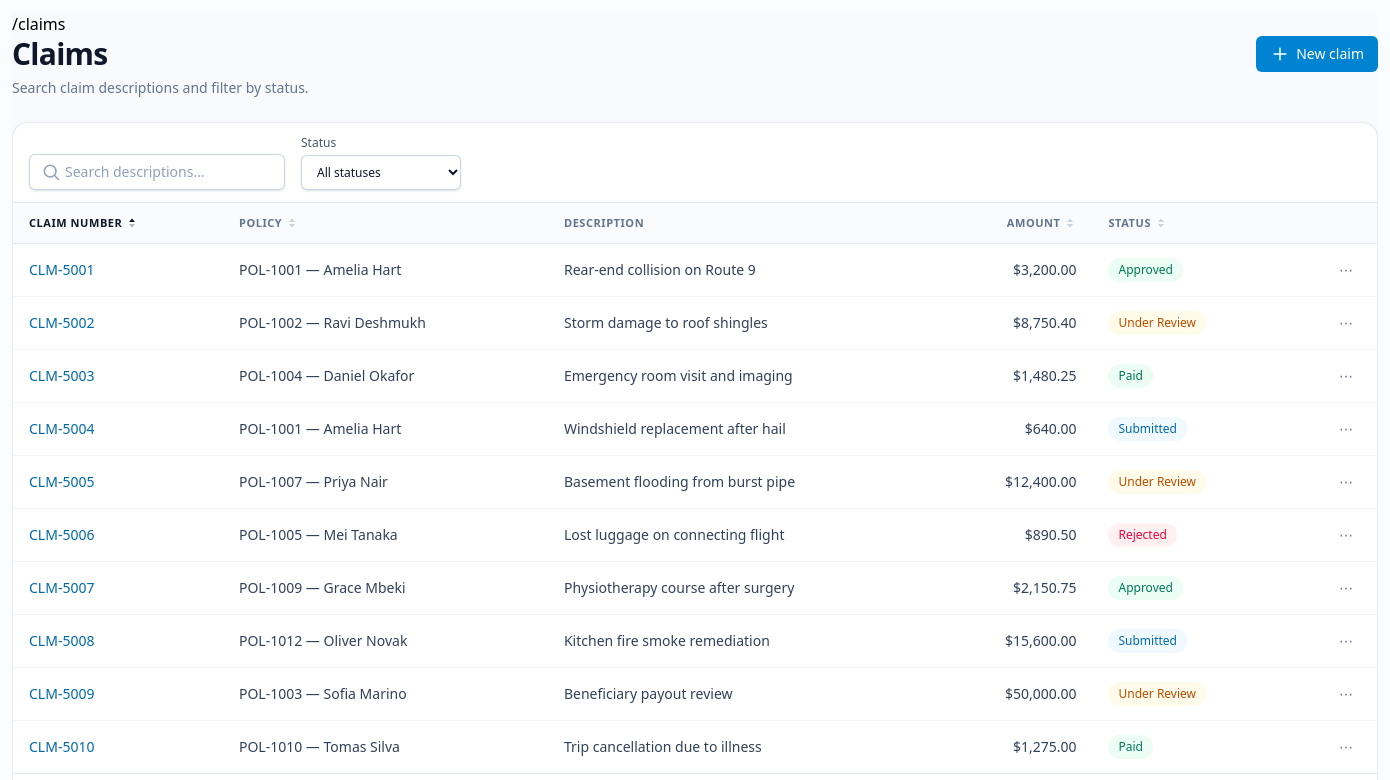
Test: ClaimListPage › filters by status
The width and height of the screenshot is (1390, 780).
Expected: the link "CLM-5001" is shown, [29,260,94,279]
Select "Submitted" in the dropdown labelled "Status" at x=381, y=172, box [301,155,461,190]
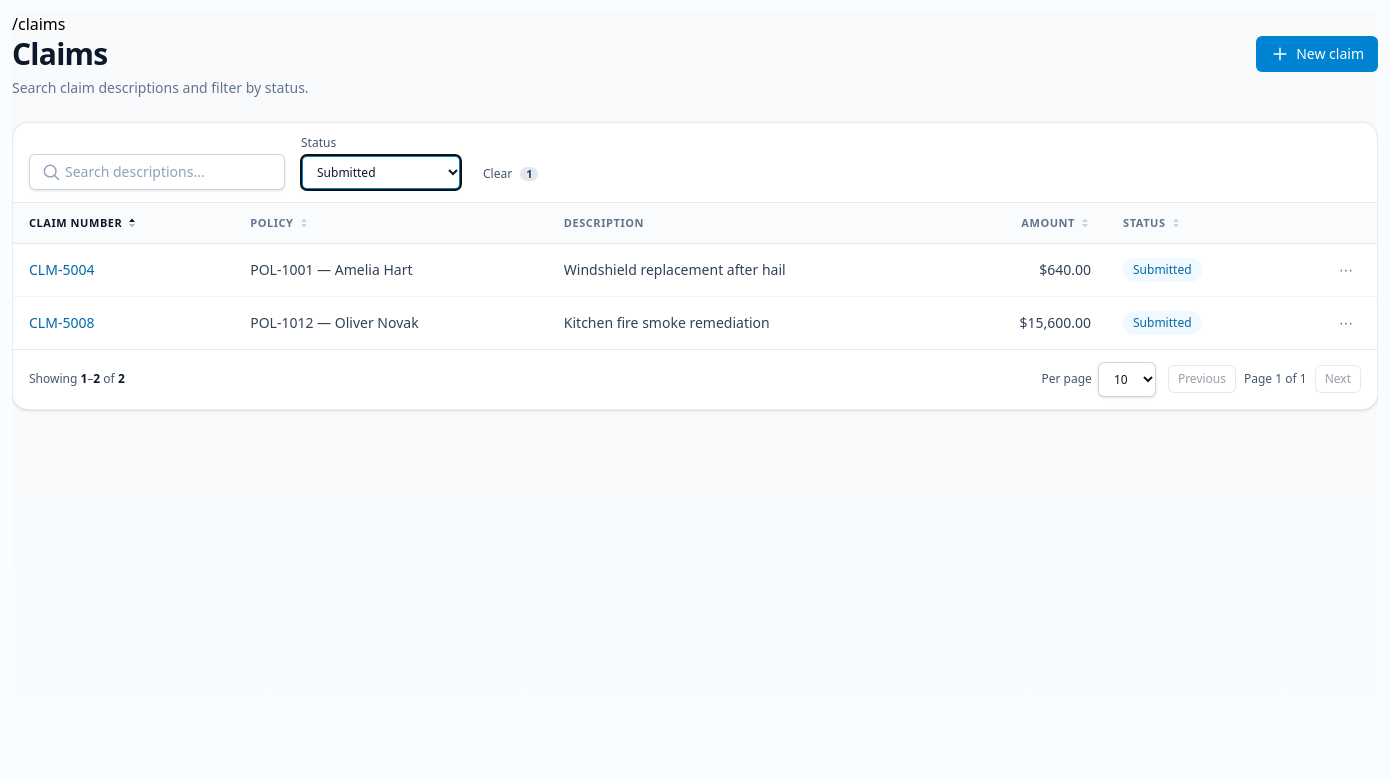
Expected: the link "CLM-5004" is shown, [29,260,94,279]
Expected: the link "CLM-5001" is gone
